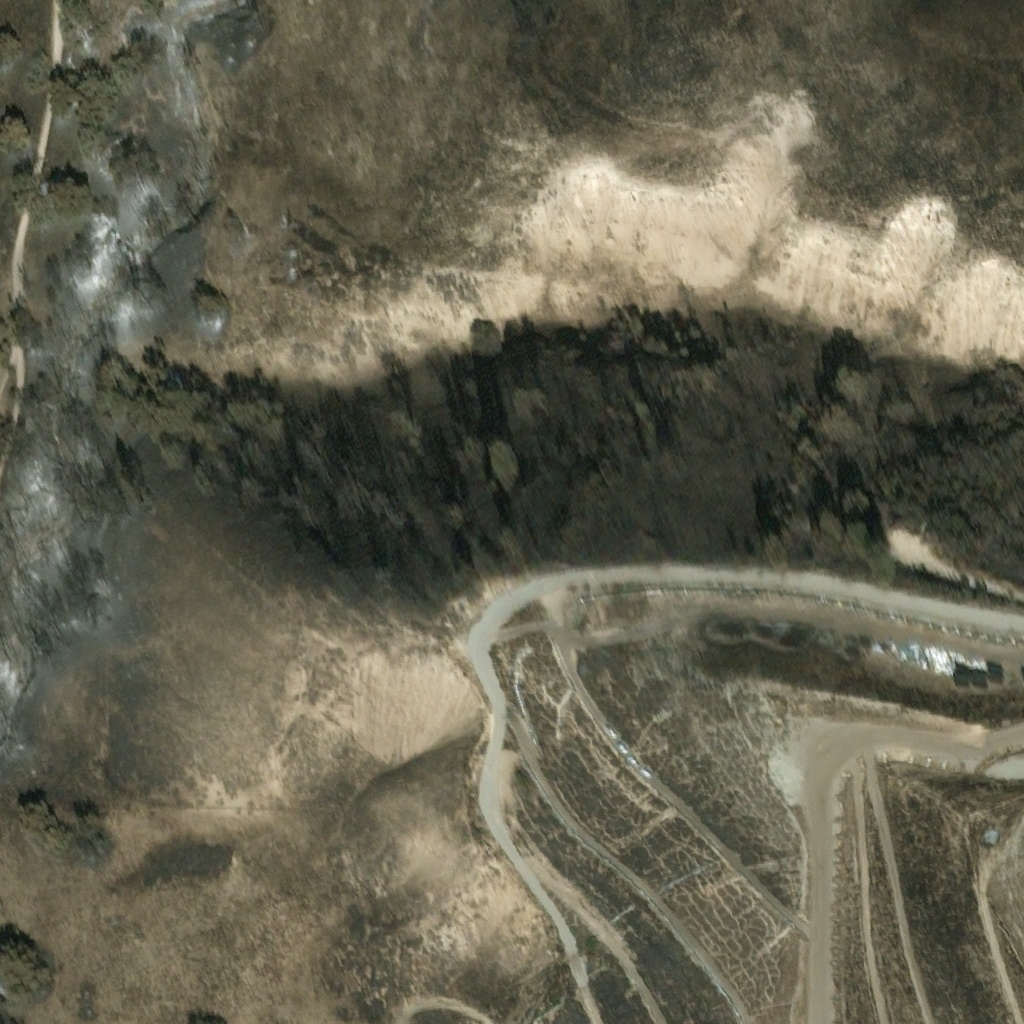0 no-damage: (978, 817, 997, 838)
